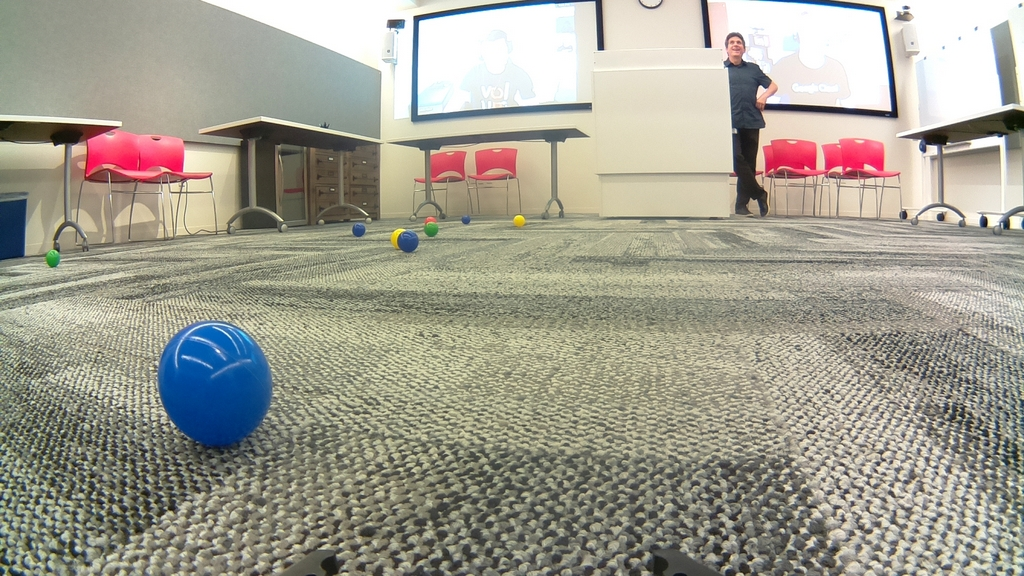ball: (423, 224, 437, 237)
